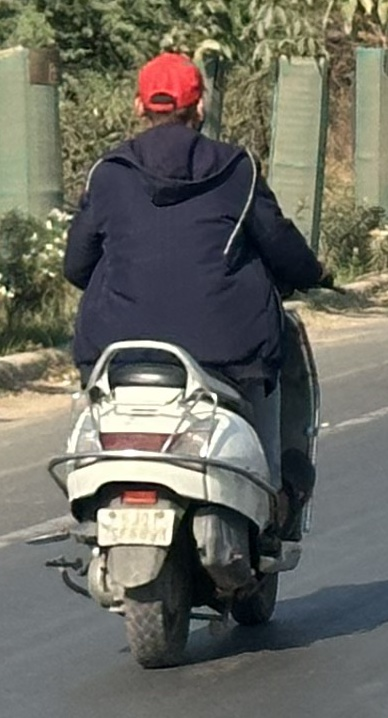BikeWithRider: (25, 53, 338, 670)
NoHelmet: (134, 52, 207, 138)
